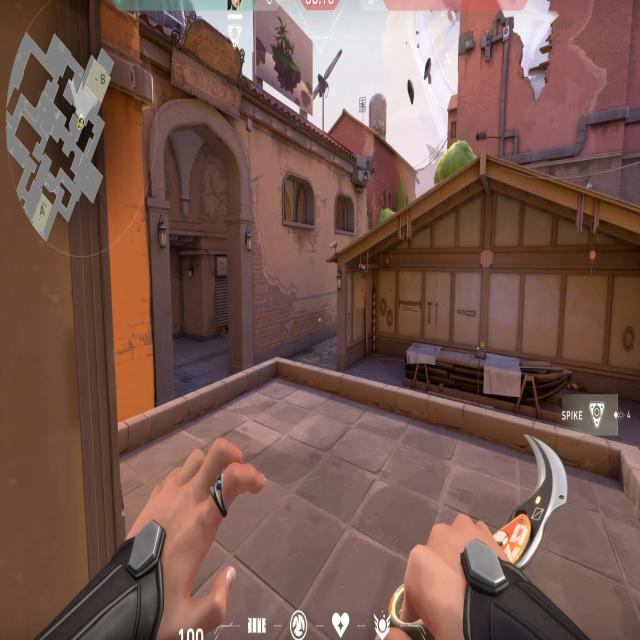B_Garage_Left: (336, 254, 425, 385)
B_Garage_Right: (552, 258, 640, 413)
Throwables: (282, 172, 316, 232), (332, 190, 357, 234)
